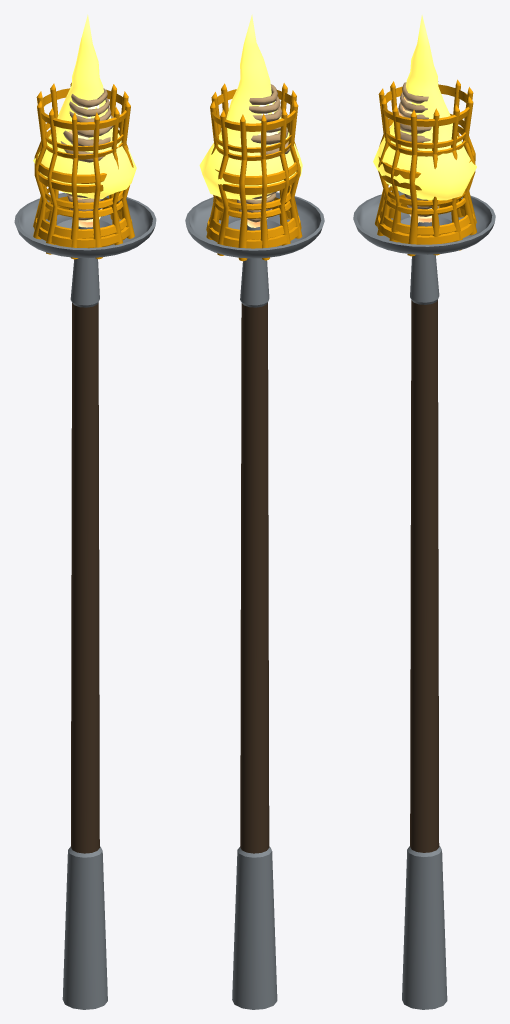
Rendered from torch.glb.
The picture shows the model from 3 angles, left to right: view 1: azimuth 90°, elevation 25°; view 2: azimuth 150°, elevation 25°; view 3: azimuth 270°, elevation 25°; orthographic projection.
Parts seen in each view (by area): view 1: torche_metallic_clean.001, torche_fire_flame.001; view 2: torche_metallic_clean.001, torche_fire_flame.001; view 3: torche_metallic_clean.001, torche_fire_flame.001.
Part boxes in pixels (<box>): torche_metallic_clean.001: <box>14,82,156,1009</box>; torche_fire_flame.001: <box>33,14,136,198</box>; torche_metallic_clean.001: <box>185,83,324,1009</box>; torche_fire_flame.001: <box>199,14,302,200</box>; torche_metallic_clean.001: <box>353,79,495,1009</box>; torche_fire_flame.001: <box>373,15,476,200</box>.
Size of the model in its own units: 0.3871 by 3.04 by 0.3969.
